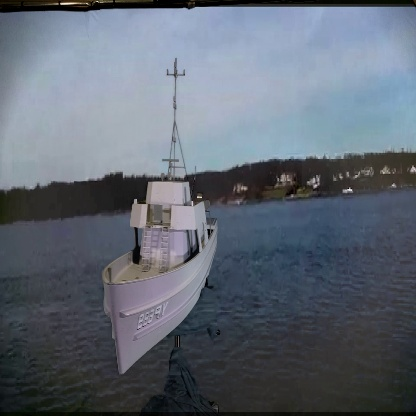YP689: (100, 59, 219, 378)
